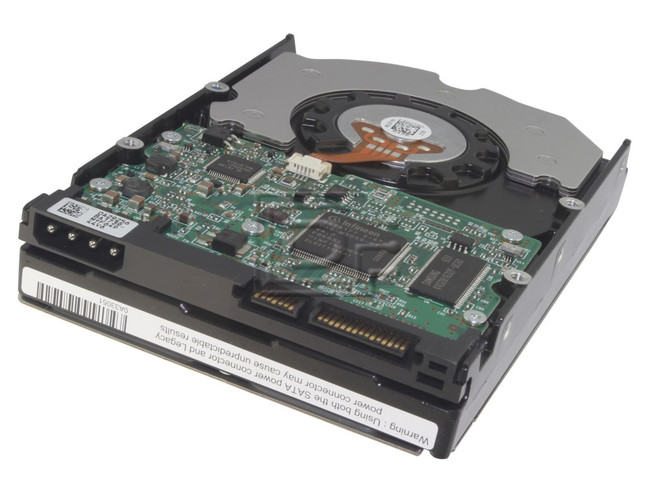SATA Hard Drive: (9, 22, 642, 480)
